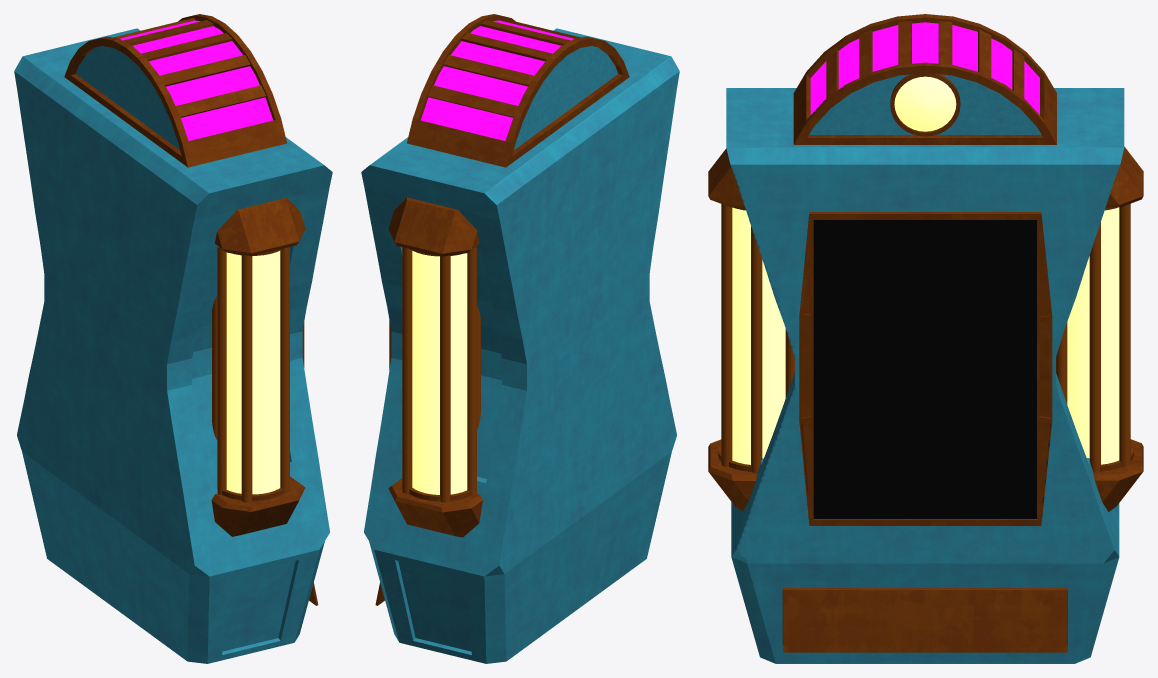
Rendered from Lore puzzle model box.glb.
3 renders of one model, left to right at view 1: azimuth 30°, elevation 25°; view 2: azimuth 150°, elevation 25°; view 3: azimuth 270°, elevation 25°, orthographic. The views are drawn at different scales.
Parts seen in each view (by area): view 1: Plane, Circle, Cylinder, Circle.004, Circle.003, Cube.001, Cylinder.001, Cube, Cylinder.003, Cylinder.002, Cylinder.008; view 2: Plane, Circle, Cylinder.009, Circle.004, Circle.003, Cube.003, Cube.002, Cylinder.011, Cylinder.010, Cylinder.013; view 3: Plane, Cube.005, Cube.006, Circle, Cube.004, Cylinder.009, Cylinder, Circle.002, Circle.004, Cylinder.010, Cylinder.002, Cylinder.012 (+7 smaller).
Part boxes in pixels (left/top/right/bottom): Plane: left=14, top=28, right=332, bottom=663; Circle: left=64, top=14, right=286, bottom=167; Cylinder: left=226, top=251, right=280, bottom=494; Circle.004: left=119, top=20, right=273, bottom=140; Circle.003: left=75, top=46, right=179, bottom=149; Cube.001: left=215, top=197, right=305, bottom=256; Cylinder.001: left=241, top=254, right=252, bottom=502; Cube: left=211, top=476, right=305, bottom=536; Cylinder.003: left=217, top=247, right=226, bottom=494; Cylinder.002: left=280, top=247, right=289, bottom=493; Cylinder.008: left=212, top=295, right=217, bottom=439; Plane: left=361, top=28, right=679, bottom=663; Circle: left=407, top=14, right=629, bottom=167; Cylinder.009: left=412, top=250, right=467, bottom=494; Circle.004: left=420, top=20, right=574, bottom=140; Circle.003: left=514, top=46, right=618, bottom=149; Cube.003: left=388, top=197, right=479, bottom=256; Cube.002: left=388, top=478, right=482, bottom=537; Cylinder.011: left=440, top=255, right=450, bottom=502; Cylinder.010: left=402, top=247, right=412, bottom=493; Cylinder.013: left=467, top=247, right=476, bottom=495; Plane: left=726, top=88, right=1124, bottom=663; Cube.005: left=813, top=220, right=1036, bottom=518; Cube.006: left=782, top=588, right=1067, bottom=652; Circle: left=793, top=14, right=1056, bottom=144; Cube.004: left=799, top=212, right=1052, bottom=525; Cylinder.009: left=1067, top=207, right=1119, bottom=464; Cylinder: left=732, top=207, right=785, bottom=464; Circle.002: left=809, top=74, right=1041, bottom=134; Circle.004: left=810, top=22, right=1039, bottom=114; Cylinder.010: left=1119, top=203, right=1130, bottom=467; Cylinder.002: left=721, top=204, right=732, bottom=466; Cylinder.012: left=1089, top=222, right=1100, bottom=472.
Size of the model in its own units: 5.52 by 20.27 by 13.41.
7 materials, 7 textured.
